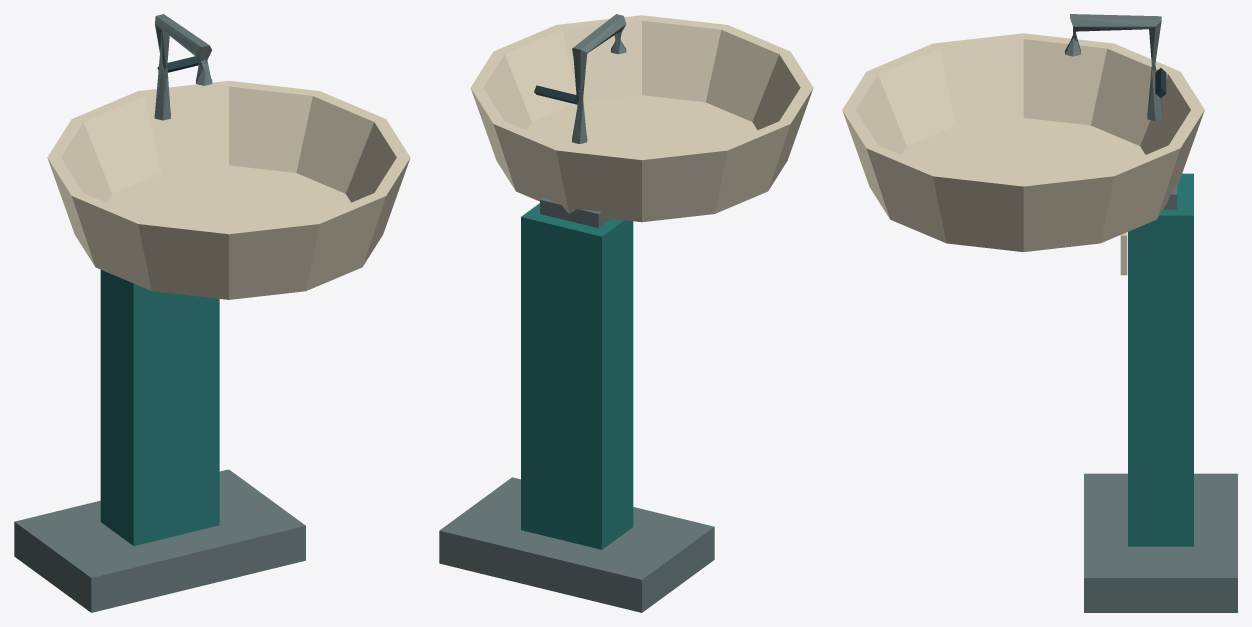
Rendered from knee-clearance-public-washbasin-near.glb.
3 views of the same model, side by side, from view 1: azimuth 30°, elevation 25°; view 2: azimuth 150°, elevation 25°; view 3: azimuth 270°, elevation 25° (orthographic). The views are drawn at different scales.
Parts seen in each view (by area): view 1: knee-clearance-public-washbasin; view 2: knee-clearance-public-washbasin; view 3: knee-clearance-public-washbasin.
Part boxes in pixels (left/top/right/bottom): knee-clearance-public-washbasin: left=14, top=14, right=410, bottom=612; knee-clearance-public-washbasin: left=439, top=14, right=813, bottom=612; knee-clearance-public-washbasin: left=842, top=14, right=1237, bottom=612.
Bounding box in the file's own units: 0.66 × 1.09 × 0.72.
